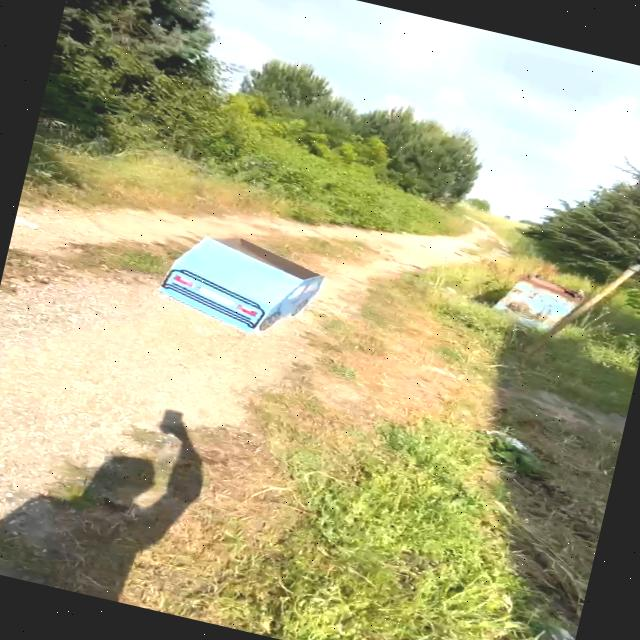blue_car: (125, 213, 345, 357)
